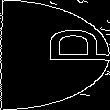P_W: (4, 36, 106, 74)
